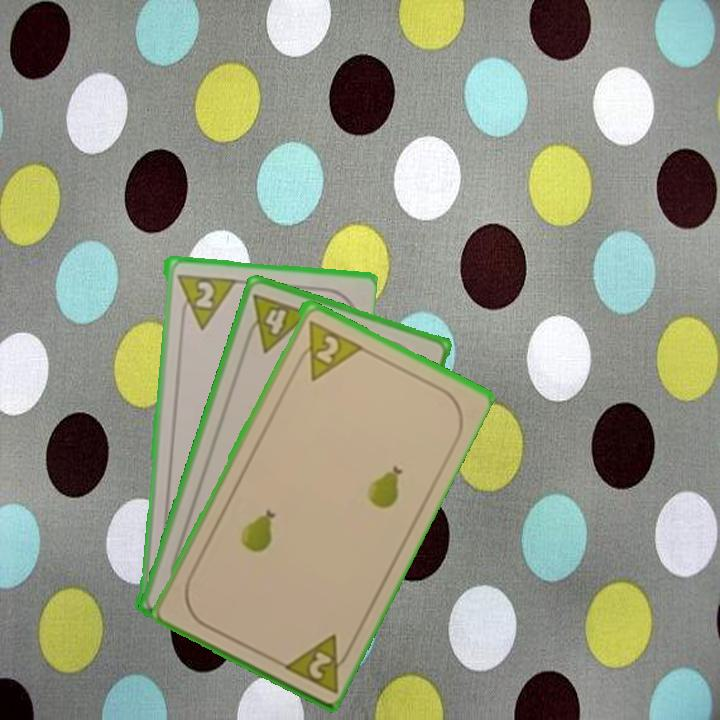2p: (291, 315, 363, 384), (173, 270, 236, 331), (304, 647, 335, 682)
4p: (240, 289, 313, 356)
